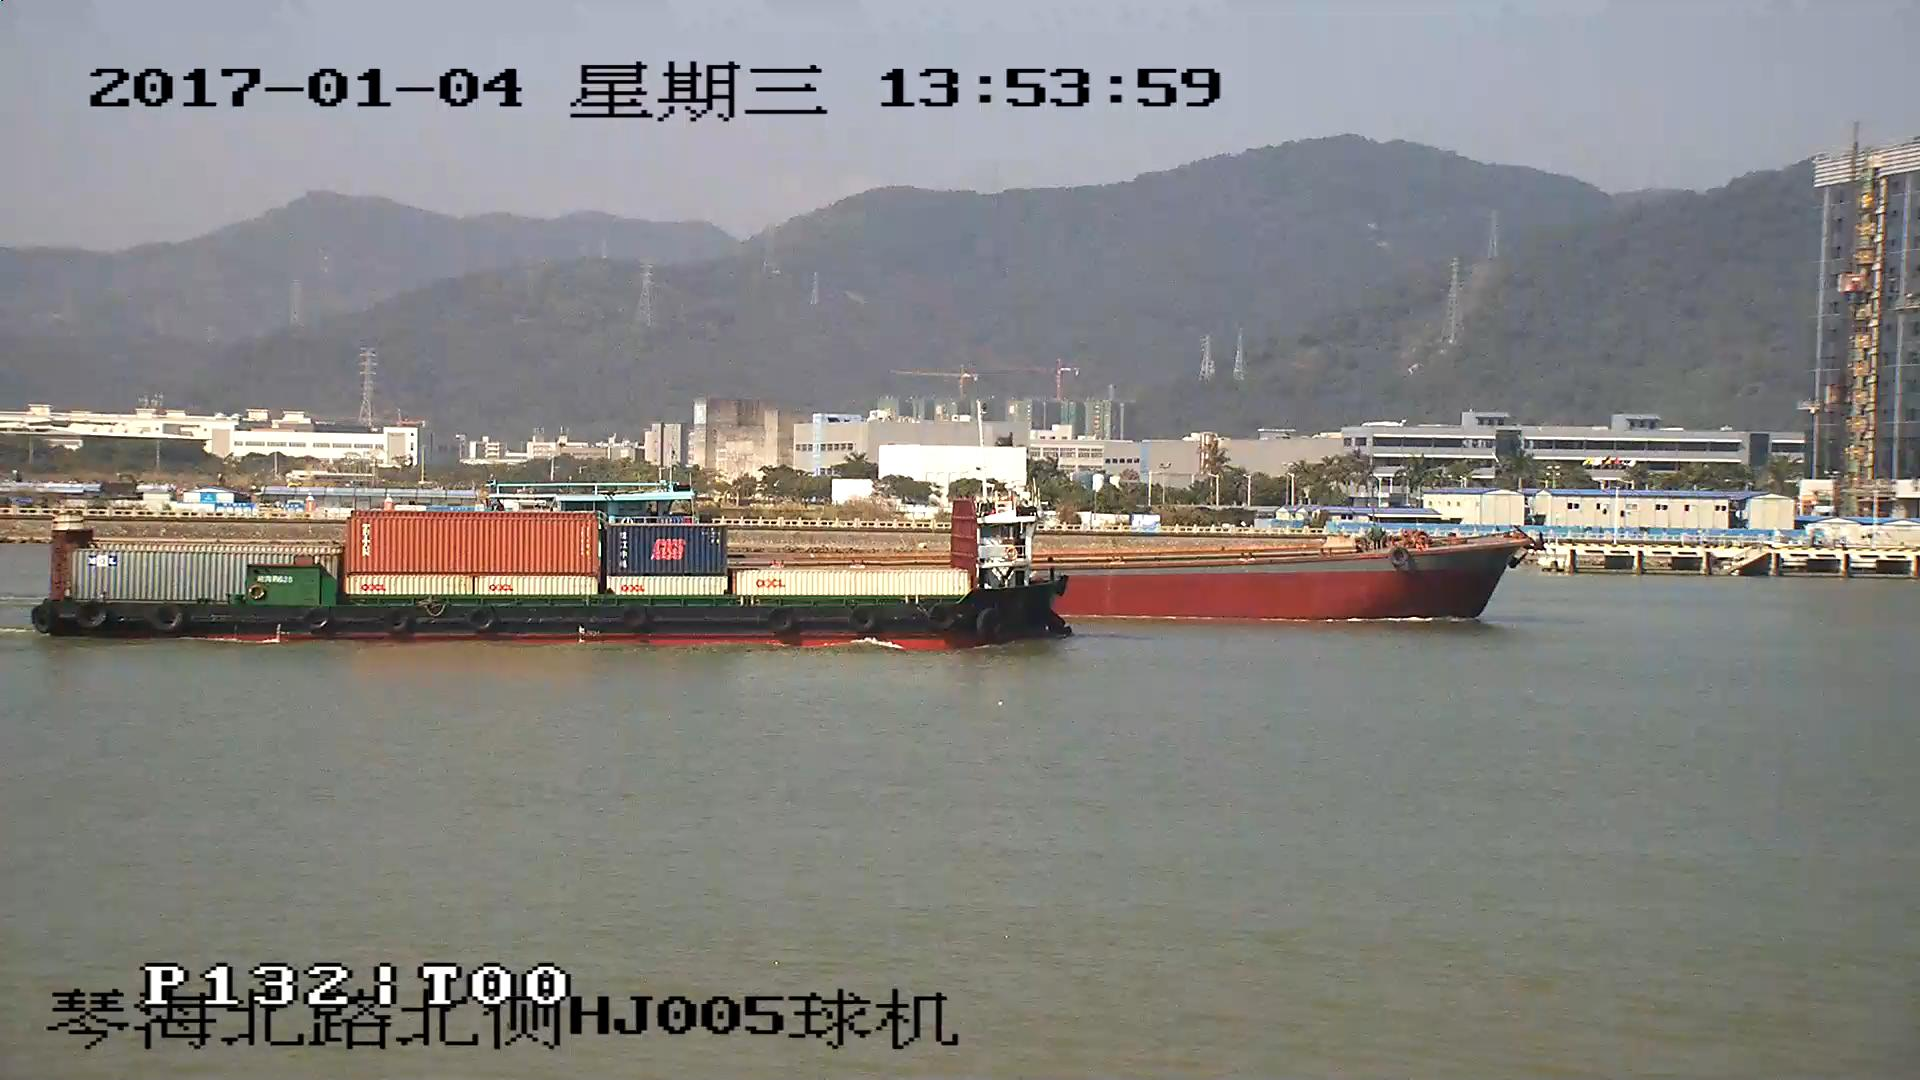bulk cargo carrier: (1052, 526, 1523, 621)
container ship: (33, 510, 1073, 635)
